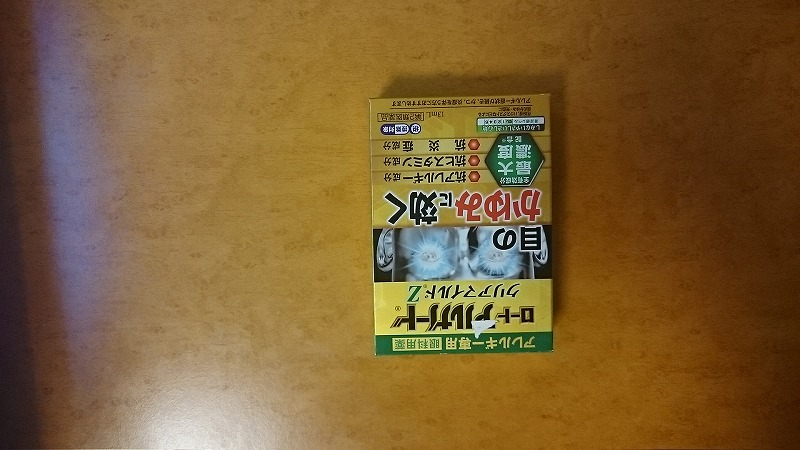C: (356, 81, 563, 366)
